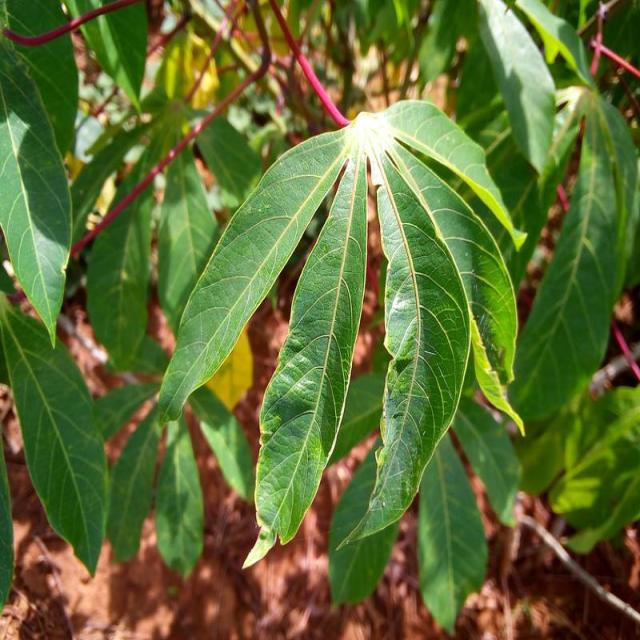cassava leaf: (158, 97, 526, 573), (157, 124, 351, 426), (242, 143, 370, 568)
